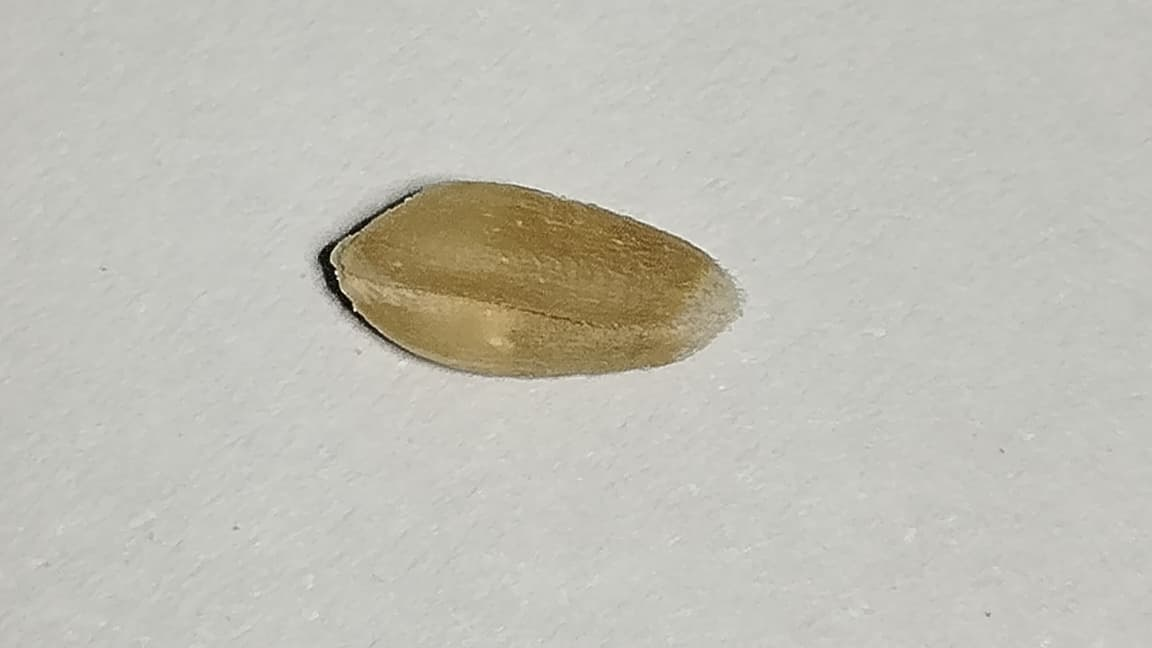damage: (330, 182, 738, 374)
